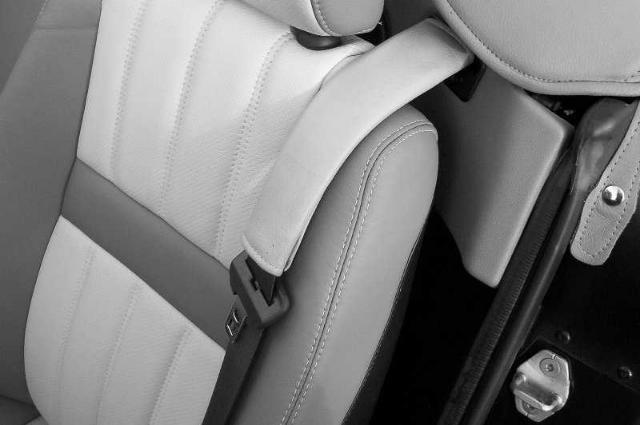Seatbelt: (200, 16, 473, 425)
